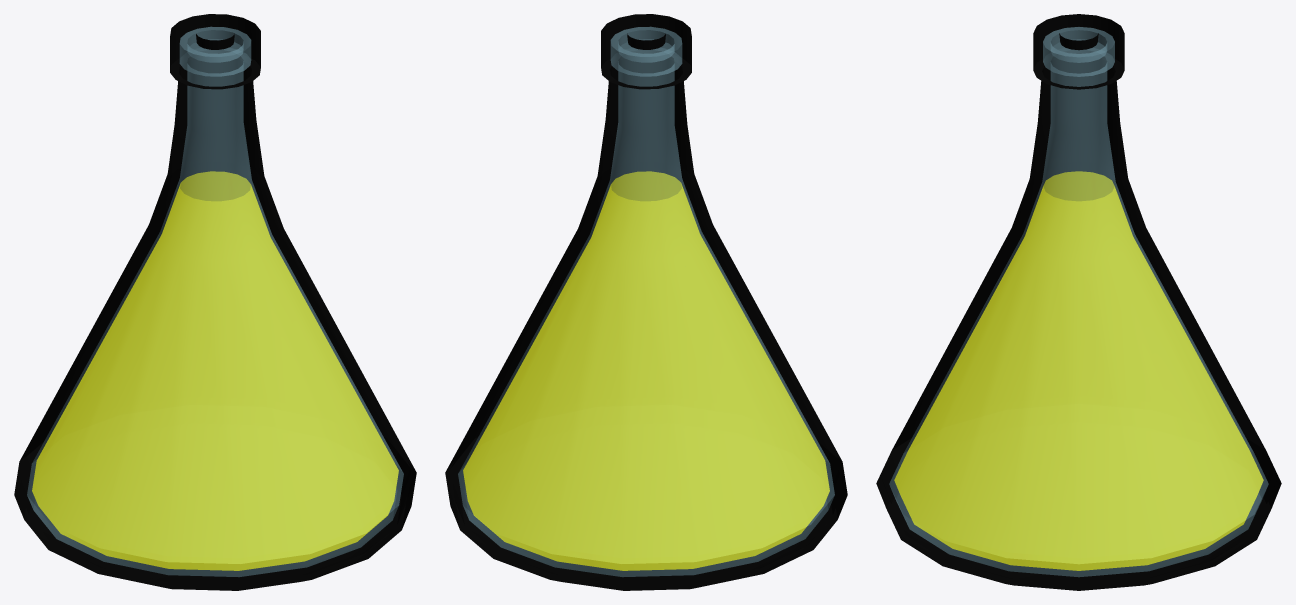
Rendered from amarillo solesito .fbx.
The picture shows the model from 3 angles, left to right: view 1: azimuth 30°, elevation 25°; view 2: azimuth 150°, elevation 25°; view 3: azimuth 270°, elevation 25°; orthographic projection.
Parts seen in each view (by area): view 1: pocima amarilla para los malos olores; view 2: pocima amarilla para los malos olores; view 3: pocima amarilla para los malos olores.
Boxes of the visible parts, x1,y1,x2,y2 form: pocima amarilla para los malos olores: [14, 14, 416, 590]; pocima amarilla para los malos olores: [445, 14, 847, 590]; pocima amarilla para los malos olores: [876, 14, 1281, 590].
Bounding box in the file's own units: 22.13 × 29.31 × 22.13.
